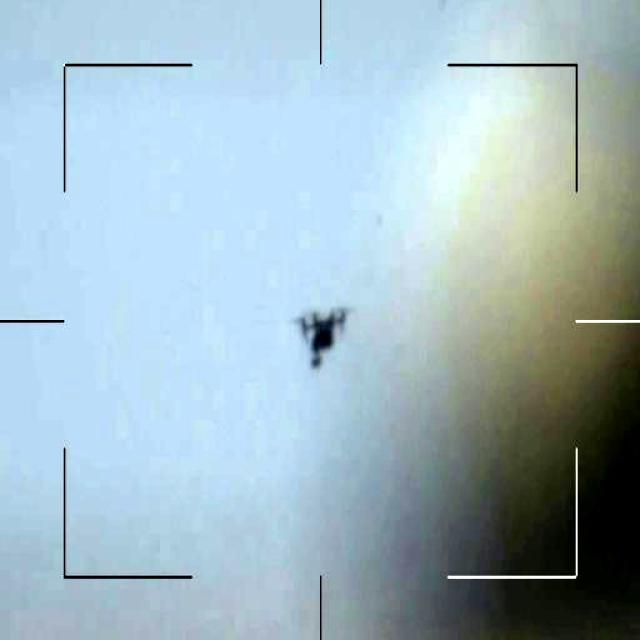bird: (290, 300, 355, 370)
